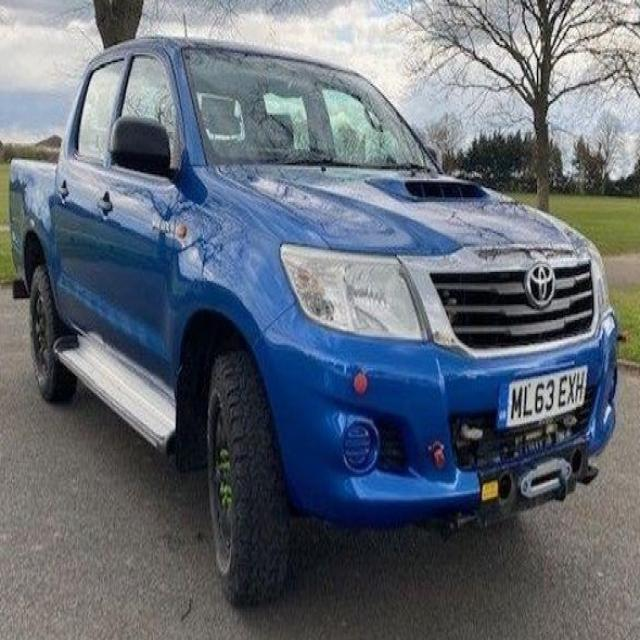CMT: (9, 30, 616, 577)
